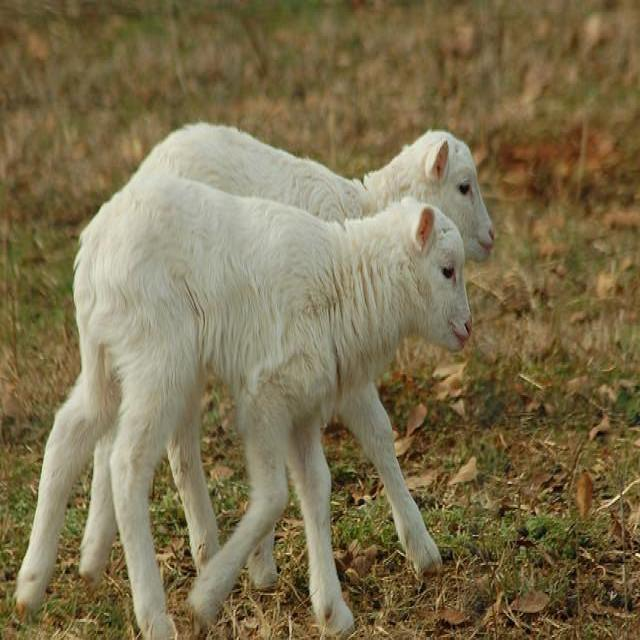Sheep: (15, 175, 470, 632), (79, 119, 491, 580)
